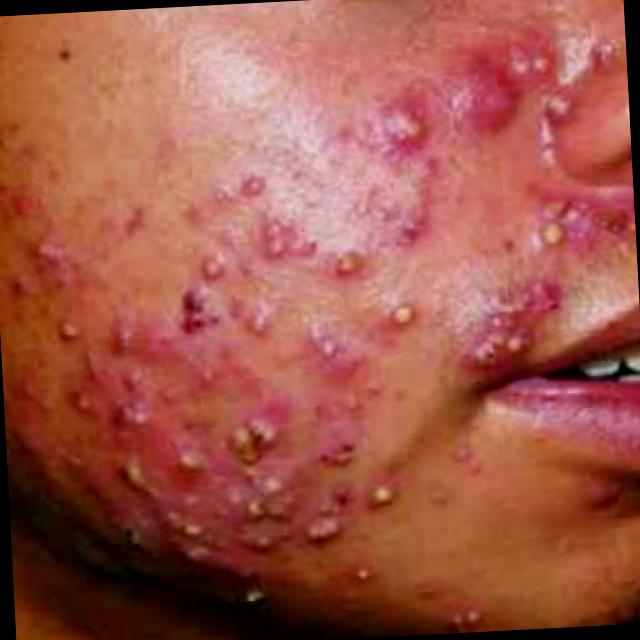blackhead: (59, 50, 71, 60)
nodule: (443, 58, 517, 134)
